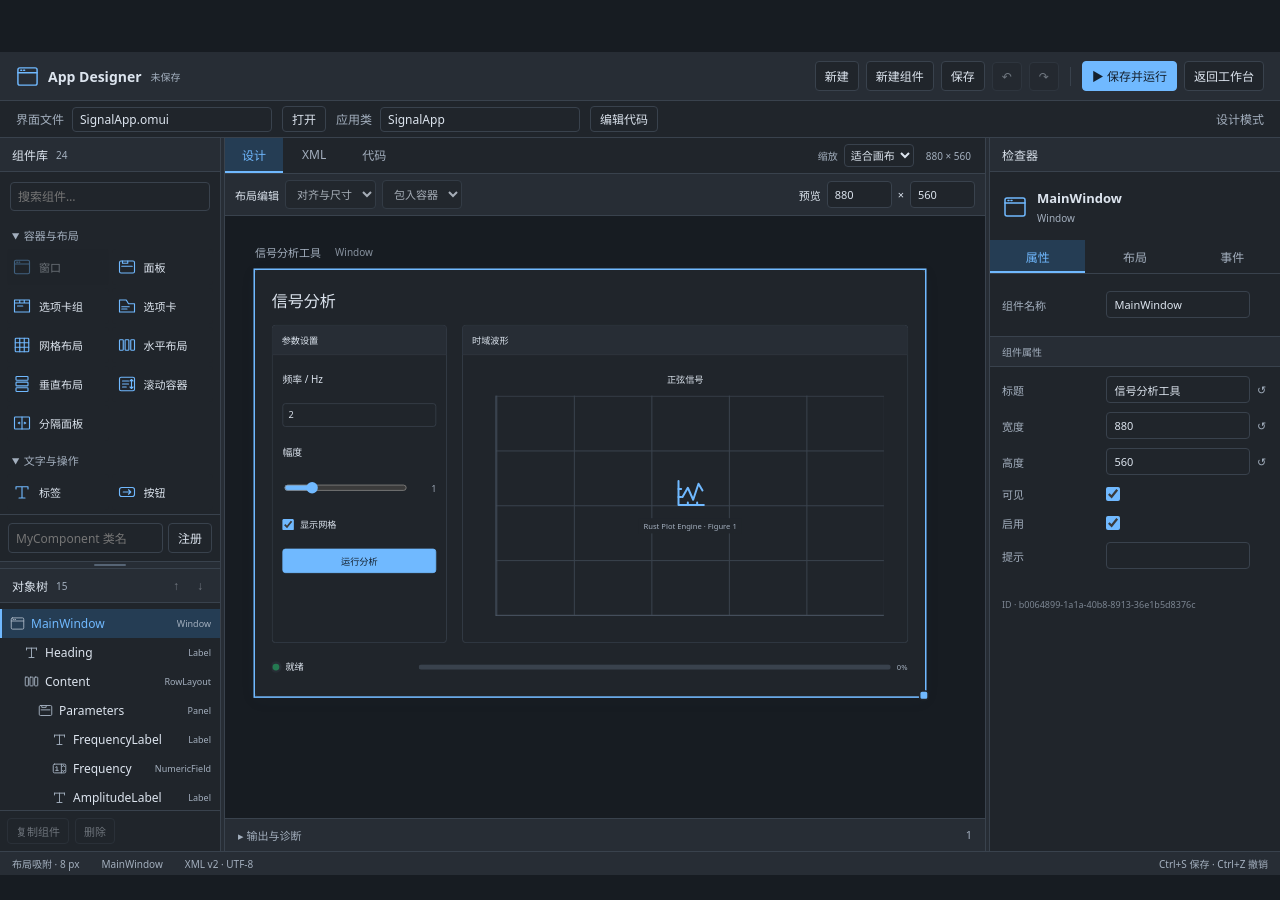
App Designer workbench › shows all component icons and edits a component through the inspector with undo
The width and height of the screenshot is (1280, 900).
Click the button "标签": point(58, 492) [7,474,108,510]
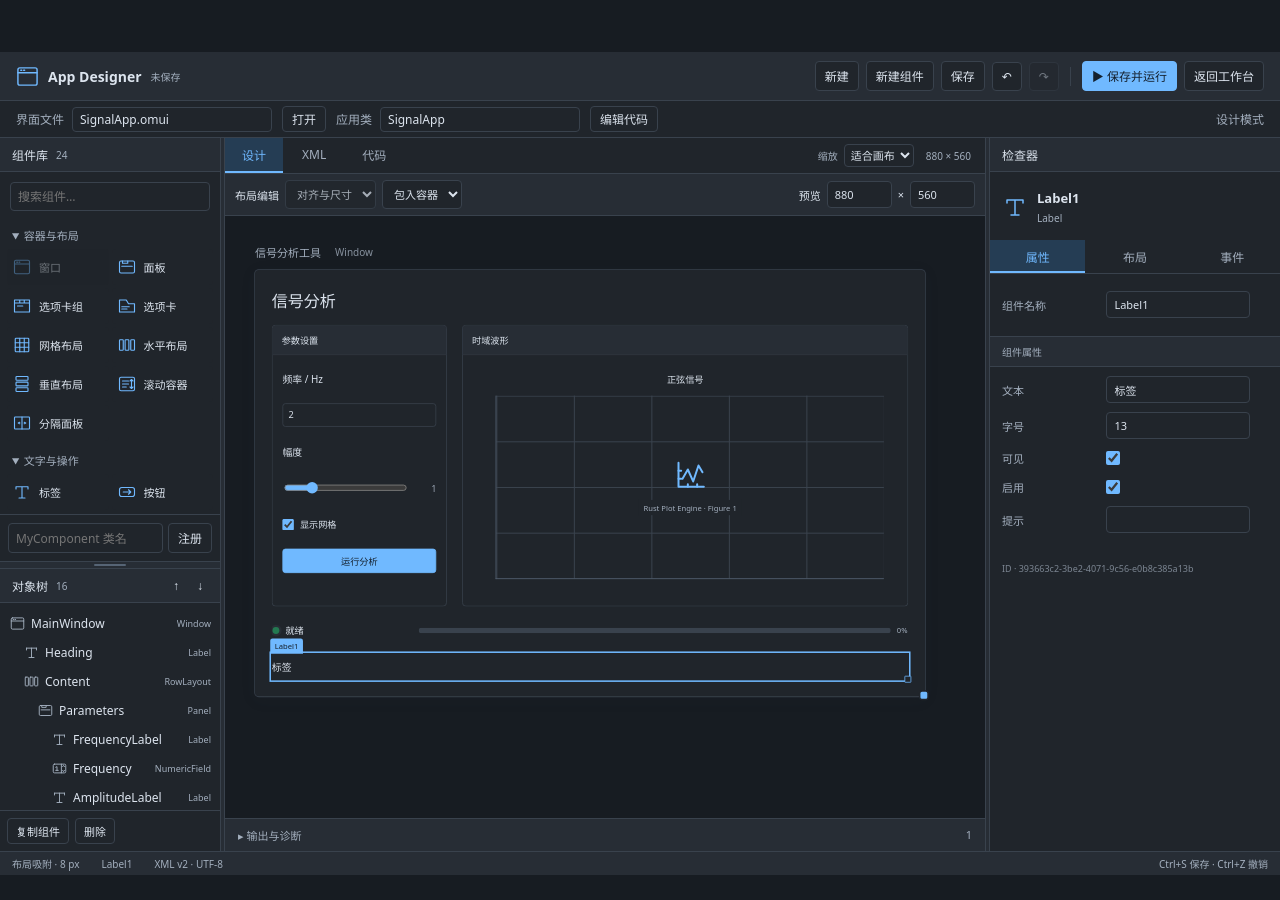
Replace the text in the field labelled "文本" with "新增标签": point(1178, 390) [1106,376,1250,403]
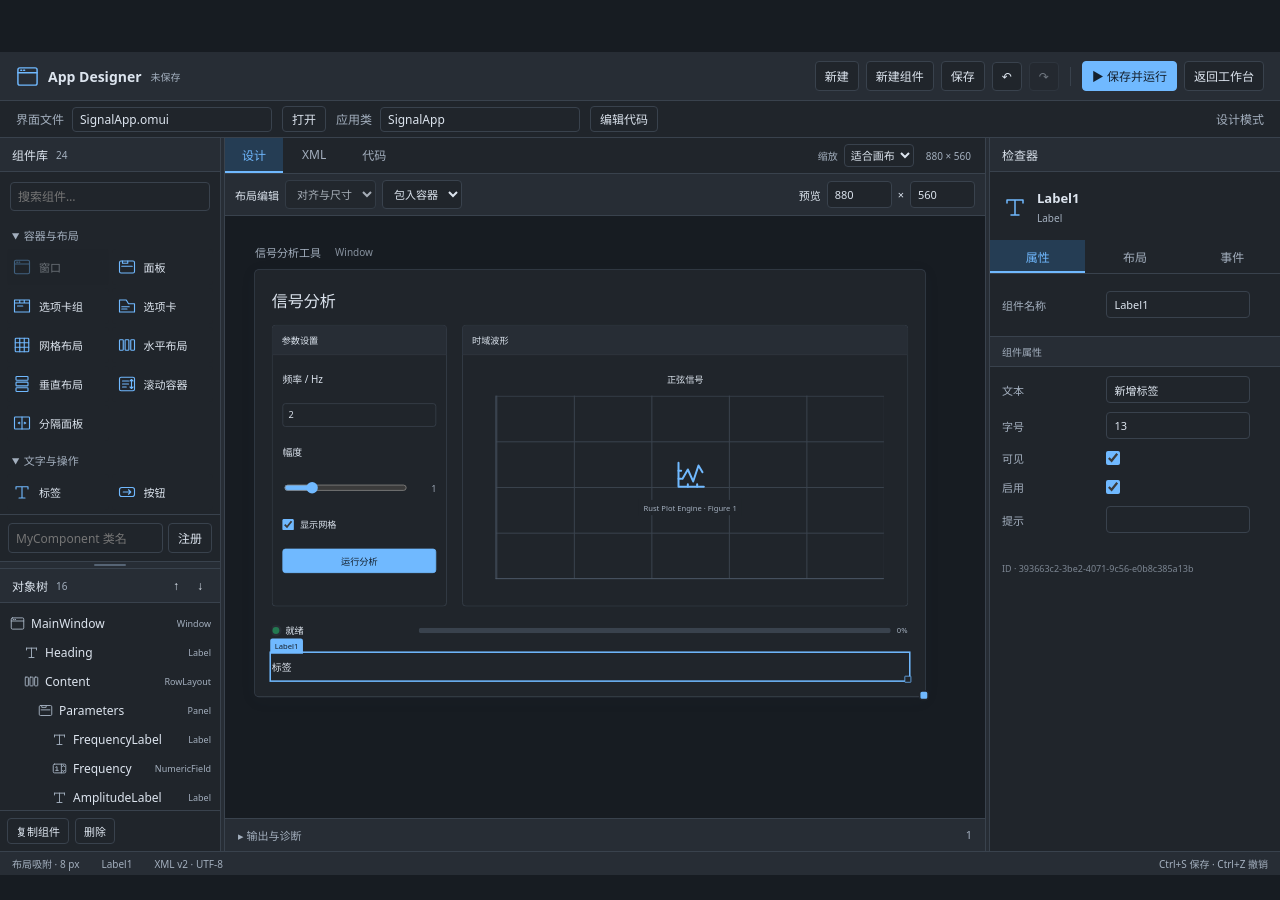
Leave the field labelled "文本", box [1106,376,1250,403]
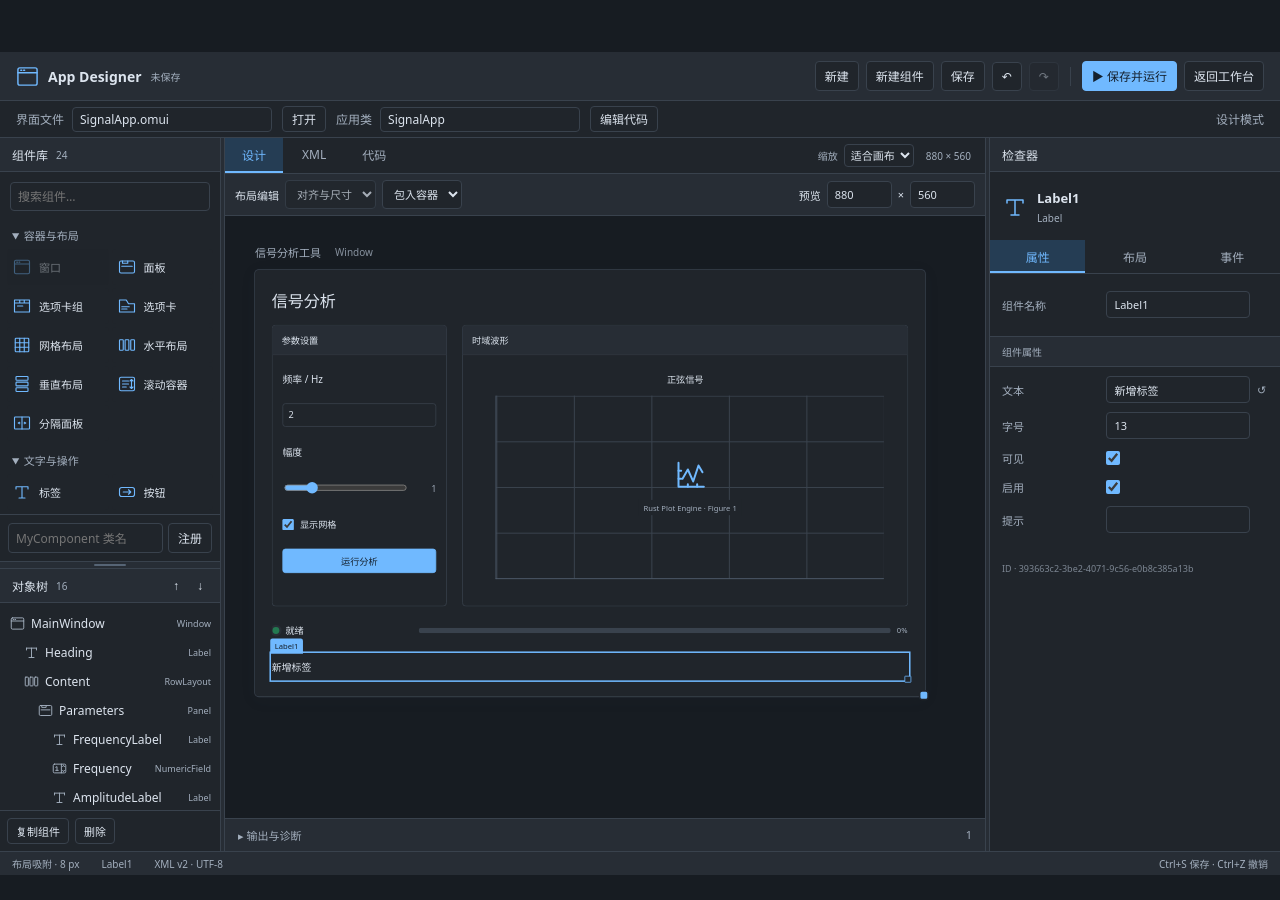
Result: the element with class "designer-artboard" shows "新增标签" at [272,660,311,674]
Click the button titled "撤销 Ctrl+Z": point(1007, 76) [992,62,1022,90]
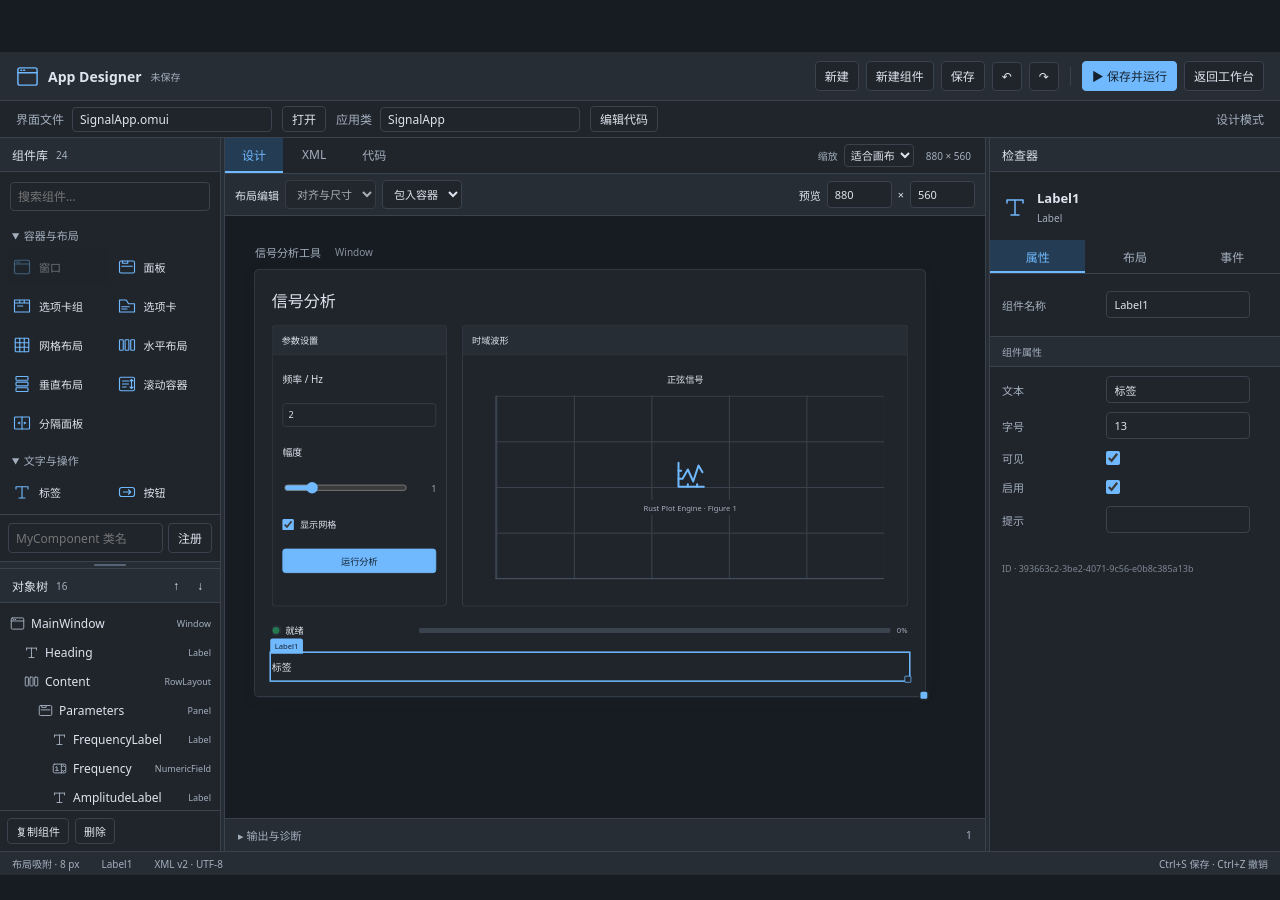
Result: the text with class "designer-artboard" no longer shows "新增标签"
Click the button titled "重做 Ctrl+Shift+Z": point(1044, 76) [1029,62,1059,90]
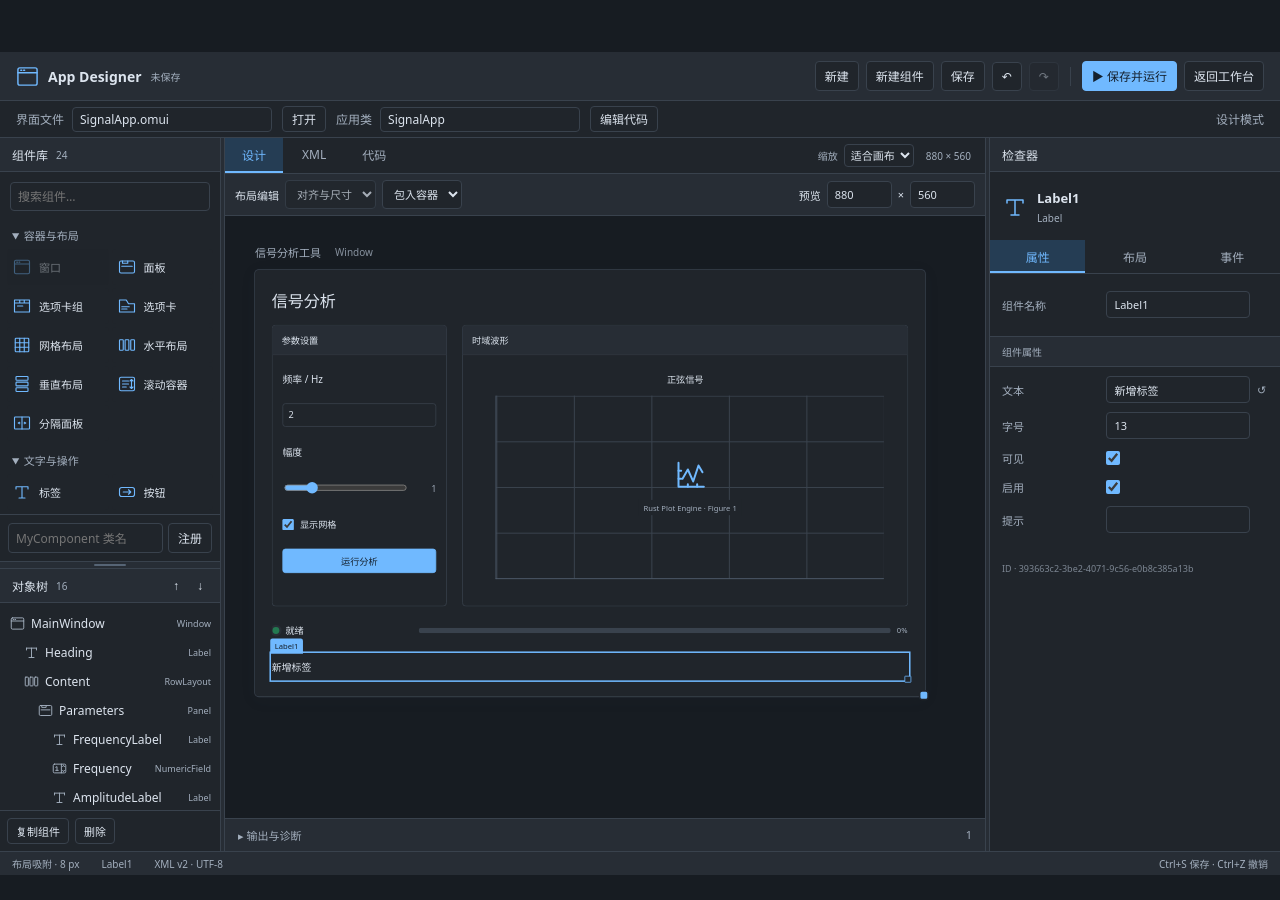
Result: the element with class "designer-artboard" shows "新增标签" at [272,660,311,674]
